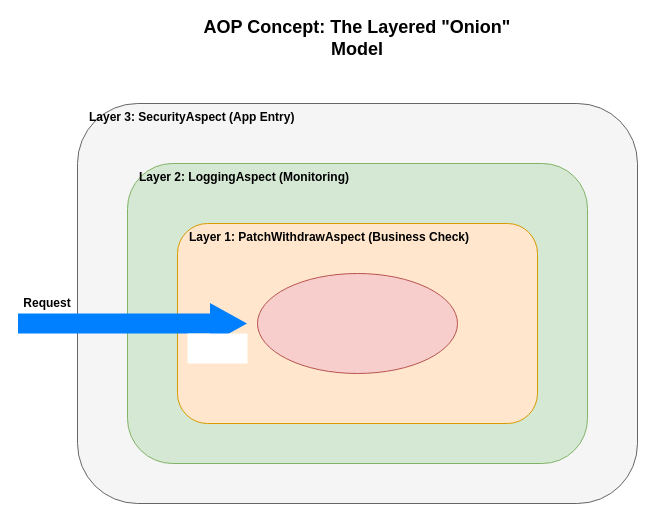
This 655x521 diagram has some shape labels left out. Each missing label, with the centre of its shape:
CORE CONCERN MetierBank.withdraw(): (x=357, y=323)
Guard: Check Balance: (x=217, y=348)
